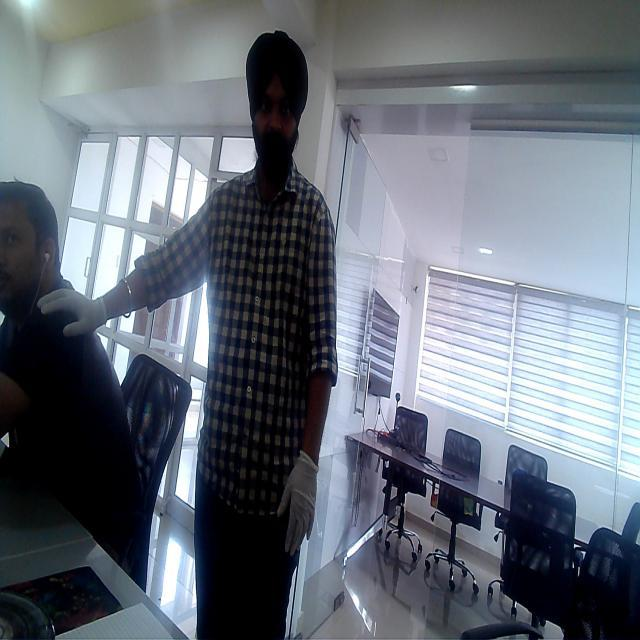with_gloves: (266, 429, 352, 557), (34, 279, 120, 351)
